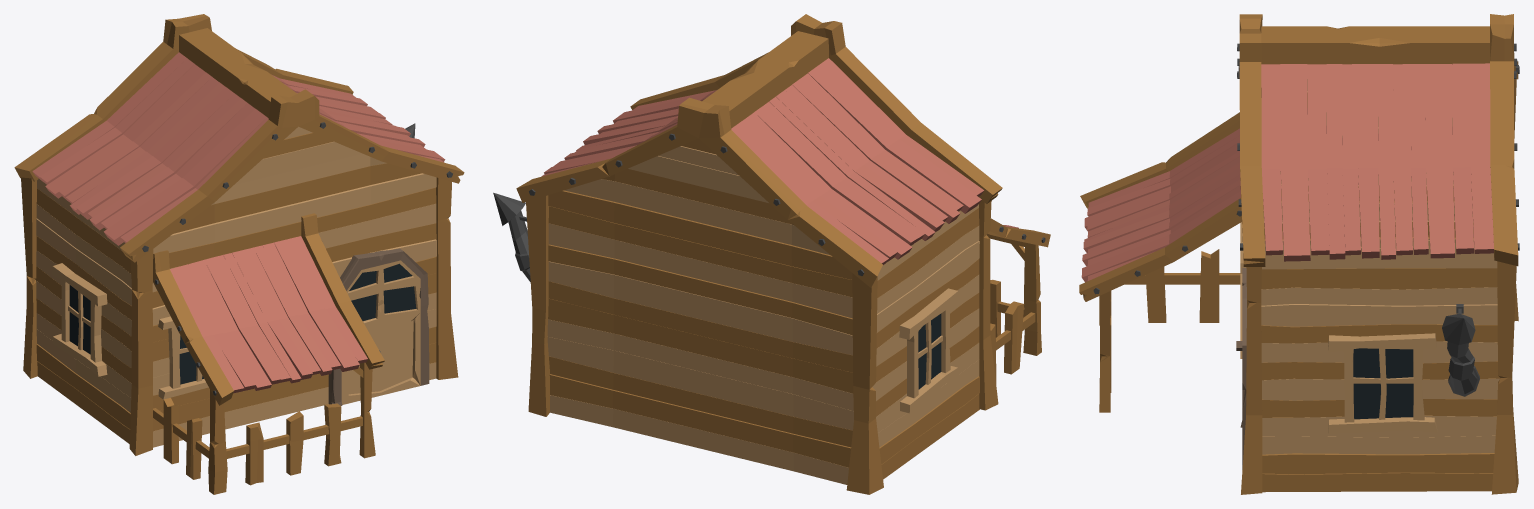
Rendered from Building_Undertaker.fbx.
The picture shows the model from 3 angles, left to right: view 1: azimuth 30°, elevation 25°; view 2: azimuth 150°, elevation 25°; view 3: azimuth 270°, elevation 25°; orthographic projection. The views are drawn at different scales.
Visible parts, largest first — view 1: Building_Undertaker; view 2: Building_Undertaker; view 3: Building_Undertaker.
Boxes of the visible parts, x1,y1,x2,y2 form: Building_Undertaker: (14,14,464,494); Building_Undertaker: (493,14,1050,494); Building_Undertaker: (1079,14,1519,494).
Bounding box in the file's own units: 665 × 562 × 533.
